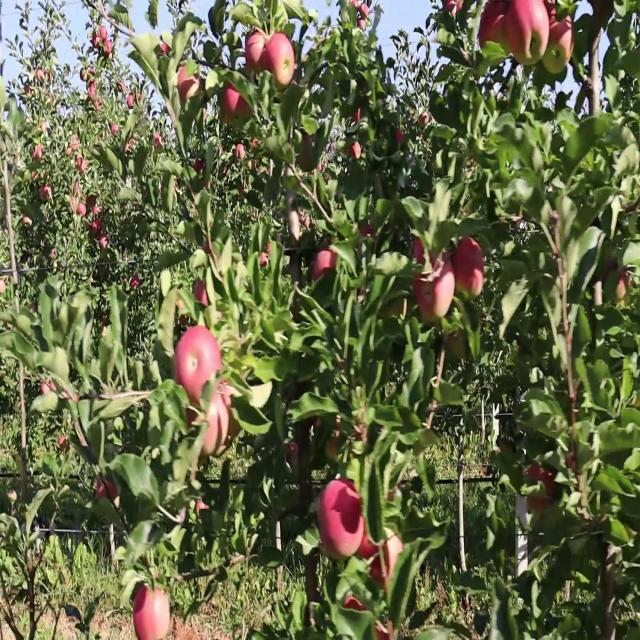apple: (176, 327, 224, 404), (320, 476, 364, 560), (416, 255, 456, 325), (452, 234, 486, 302), (544, 14, 575, 84), (328, 412, 371, 462), (544, 7, 575, 71), (132, 590, 172, 639), (524, 0, 550, 69), (204, 391, 231, 457), (505, 0, 532, 62), (268, 35, 296, 92), (376, 533, 405, 588), (544, 28, 572, 84), (528, 462, 556, 516), (336, 419, 371, 460), (480, 0, 508, 50), (604, 255, 631, 302), (328, 419, 356, 462), (412, 241, 448, 274), (356, 513, 380, 562), (529, 7, 548, 64), (312, 248, 340, 284), (244, 35, 267, 78), (180, 63, 202, 107), (444, 327, 470, 364), (288, 213, 313, 247), (360, 519, 379, 562), (328, 419, 347, 462), (412, 234, 435, 267), (220, 85, 239, 124), (296, 135, 315, 174), (356, 213, 379, 244), (348, 419, 371, 450), (96, 476, 119, 505), (196, 277, 214, 308), (236, 92, 252, 126), (284, 440, 302, 468), (184, 405, 201, 432), (444, 0, 465, 20), (260, 241, 273, 270), (228, 412, 241, 441), (348, 142, 364, 164), (40, 383, 56, 396), (40, 184, 52, 201), (92, 220, 103, 238), (196, 504, 211, 517), (80, 206, 88, 220), (72, 199, 79, 213), (36, 149, 43, 162), (36, 71, 44, 80), (24, 220, 31, 228), (72, 142, 80, 149)
